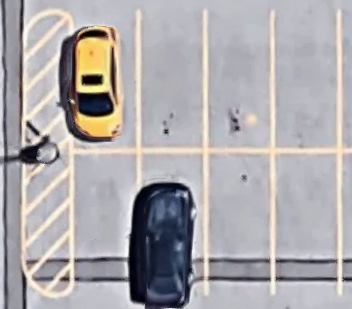Occupied: (138, 149, 206, 294), (71, 10, 138, 150)
Vacant: (71, 150, 139, 297), (272, 150, 340, 294), (138, 9, 206, 151), (207, 149, 273, 294), (205, 10, 273, 150), (273, 11, 339, 151)
